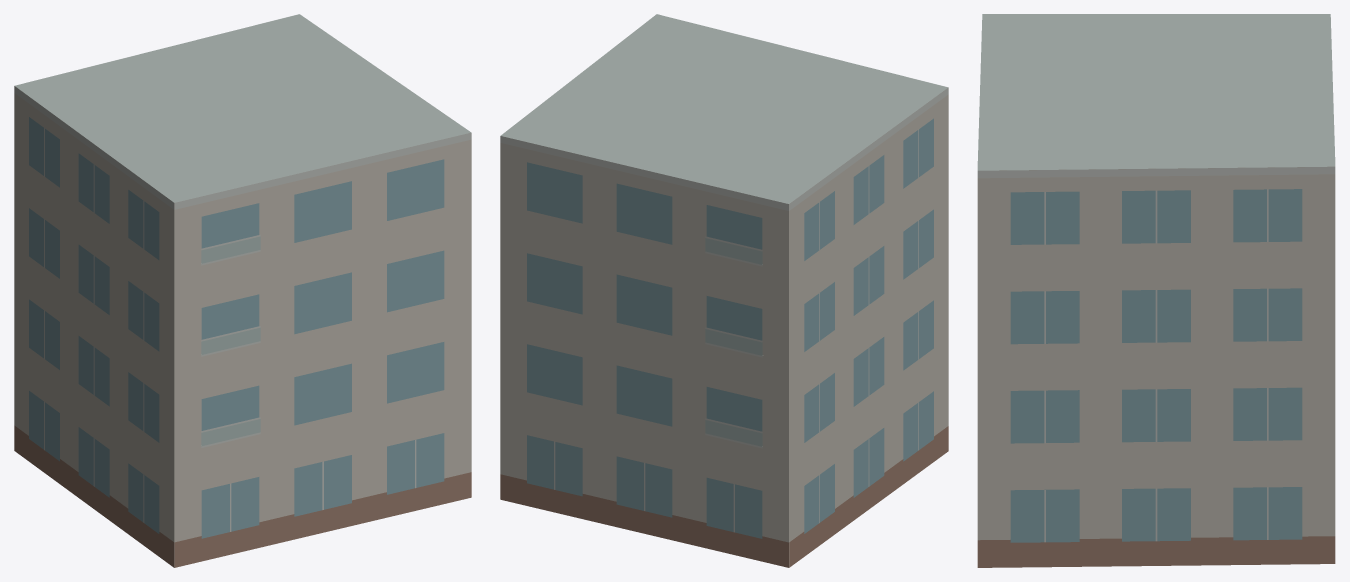
Rendered from survey-upis-32592119.glb.
3 renders of one model, left to right at view 1: azimuth 30°, elevation 25°; view 2: azimuth 150°, elevation 25°; view 3: azimuth 270°, elevation 25°, orthographic. The views are drawn at different scales.
Visible parts, largest first — view 1: survey-upis-32592119.tmp; view 2: survey-upis-32592119.tmp; view 3: survey-upis-32592119.tmp.
Part boxes in pixels (box(x1,y1,x2,y2)): survey-upis-32592119.tmp: box(14, 14, 471, 567); survey-upis-32592119.tmp: box(500, 14, 948, 567); survey-upis-32592119.tmp: box(977, 14, 1335, 567).
Size of the model in its own units: 10.79 by 12.74 by 10.42.
